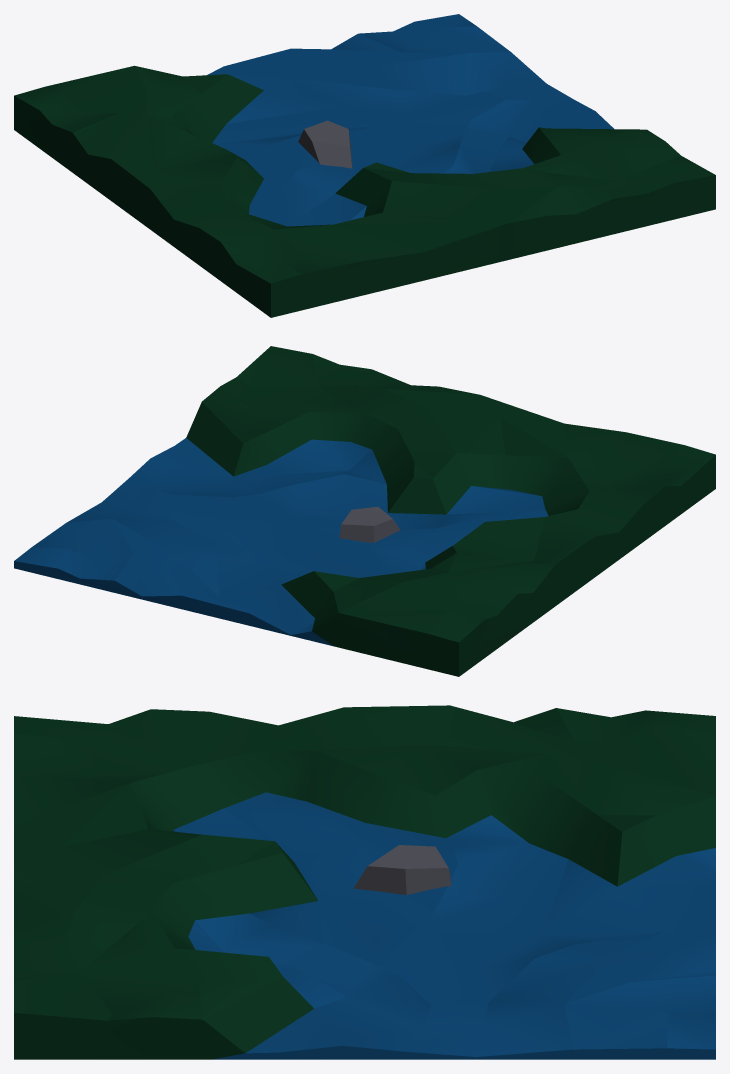
File: Water_Corner_Internal_LB.fbx
The picture shows the model from 3 angles, top to bottom: view 1: azimuth 30°, elevation 25°; view 2: azimuth 150°, elevation 25°; view 3: azimuth 270°, elevation 25°; orthographic projection. The views are drawn at different scales.
Visible parts, largest first — view 1: Water_Corner_Internal_LB; view 2: Water_Corner_Internal_LB; view 3: Water_Corner_Internal_LB.
Boxes of the visible parts, <box> form: Water_Corner_Internal_LB: <box>14,14,715,317</box>; Water_Corner_Internal_LB: <box>14,346,715,676</box>; Water_Corner_Internal_LB: <box>14,705,715,1059</box>.
Bounding box in the file's own units: 147 × 14.11 × 147.
